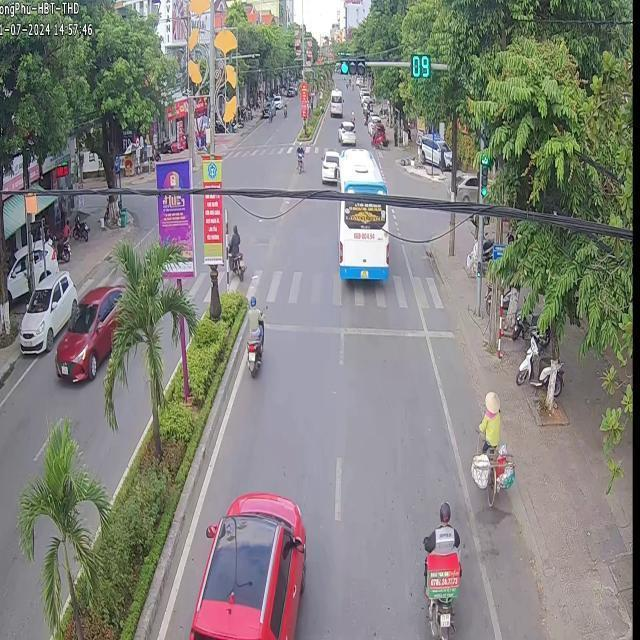car: (188, 491, 303, 638), (336, 148, 387, 278)
green_light: (338, 56, 364, 74), (478, 154, 487, 198)
motobike: (422, 500, 459, 638), (245, 286, 264, 384), (226, 222, 244, 284)
stop_line: (255, 323, 454, 337)
